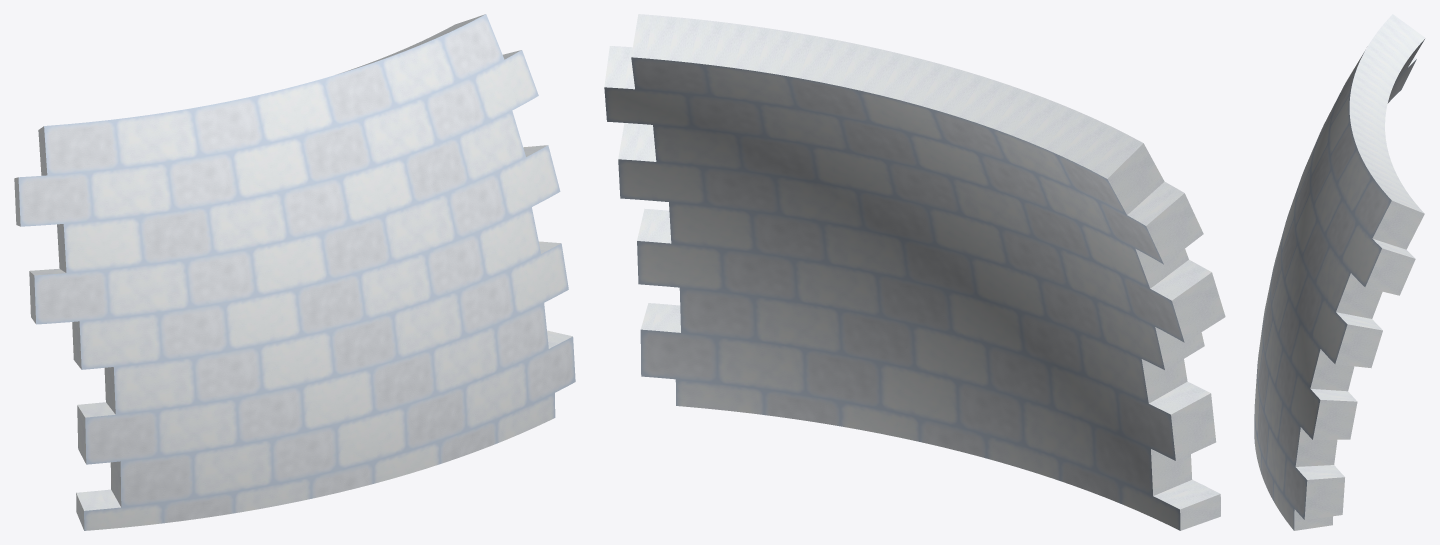
Rendered from SM_Igloo_ExitPlug.glb.
The picture shows the model from 3 angles, left to right: view 1: azimuth 30°, elevation 25°; view 2: azimuth 150°, elevation 25°; view 3: azimuth 270°, elevation 25°; orthographic projection. The views are drawn at different scales.
Parts seen in each view (by area): view 1: SM_Igloo_ExitPlug; view 2: SM_Igloo_ExitPlug; view 3: SM_Igloo_ExitPlug.
Boxes of the visible parts, <box> form: SM_Igloo_ExitPlug: <box>14,14,575,530</box>; SM_Igloo_ExitPlug: <box>604,14,1225,530</box>; SM_Igloo_ExitPlug: <box>1254,14,1425,530</box>.
Bounding box in the file's own units: 7.18 × 4.8 × 2.3.
Materials: 1 (1 with a texture image).
